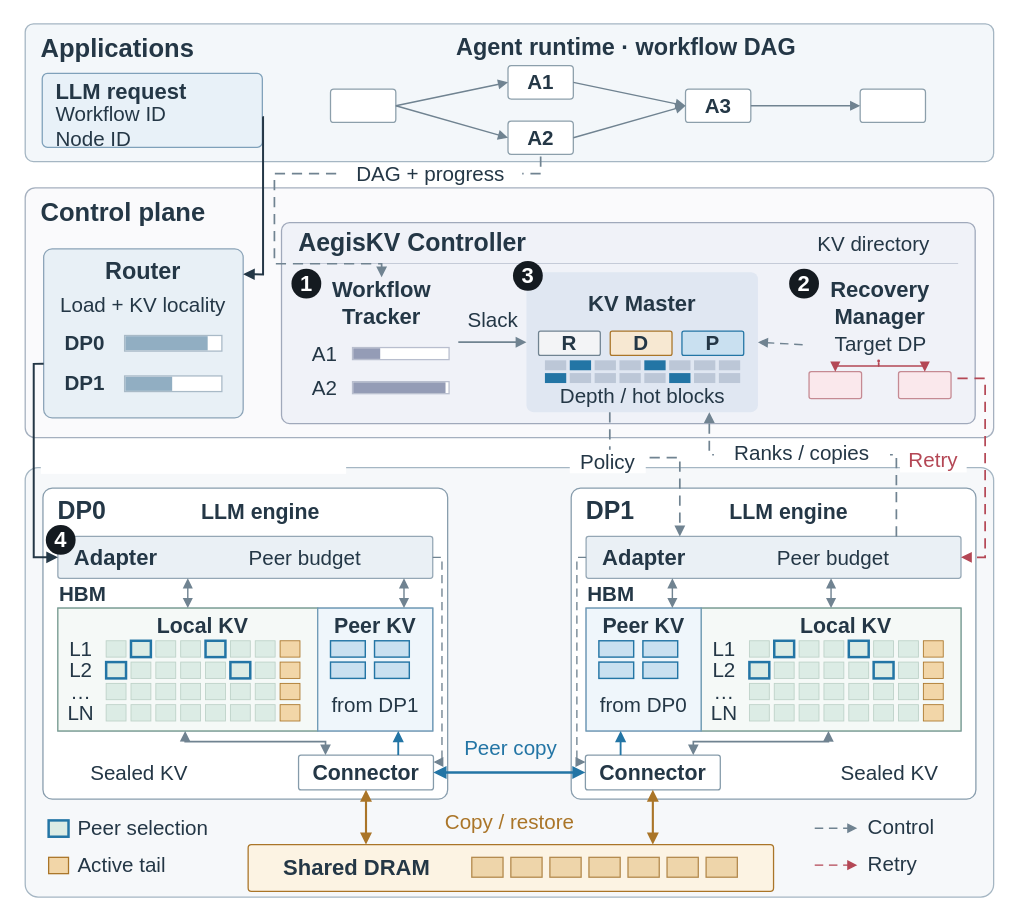
Some shapes in this 1018 by 919 pixel diagram are drawn without their labels. The box of each missing label's shape, as (x1, y1, x2, y2) in pixels:
A0: (330, 88, 396, 123)
A4: (859, 88, 926, 123)
Inference engines: (40, 443, 346, 474)
r1: (808, 371, 862, 399)
r2: (898, 371, 951, 399)
